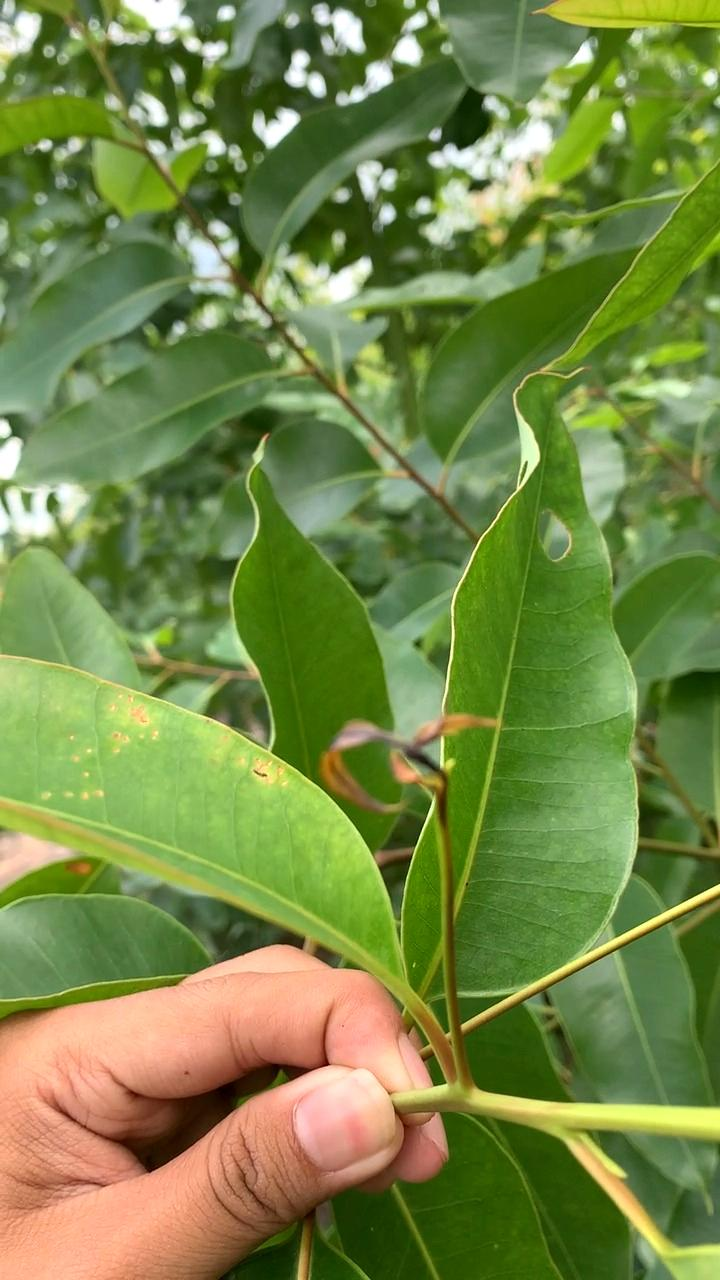Helopeltis-Withered Sprout: (311, 705, 508, 828)
